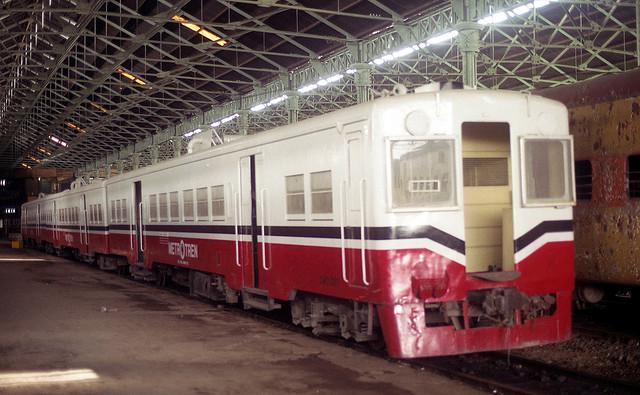Train: (17, 79, 580, 362)
